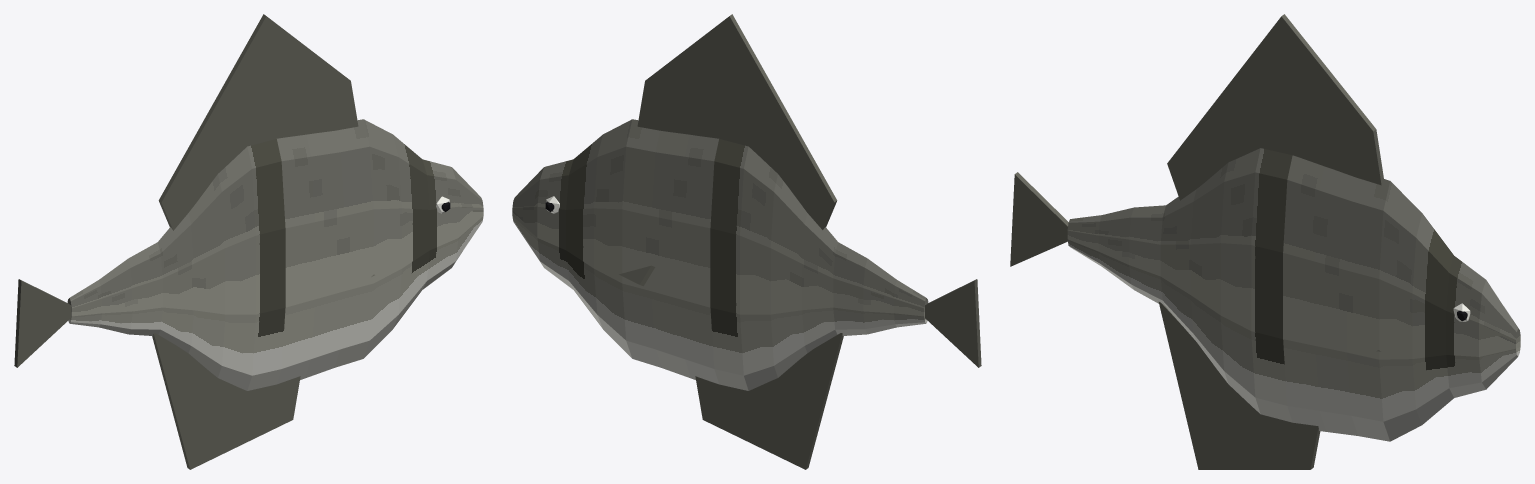
The model's file is batfish.glb.
3 views of the same model, side by side, from view 1: azimuth 30°, elevation 25°; view 2: azimuth 150°, elevation 25°; view 3: azimuth 330°, elevation 25° (orthographic). The views are drawn at different scales.
Parts seen in each view (by area): view 1: fish_batfish; view 2: fish_batfish; view 3: fish_batfish.
Boxes of the visible parts, <box> form: fish_batfish: <box>14,14,483,469</box>; fish_batfish: <box>512,14,981,469</box>; fish_batfish: <box>1010,14,1520,469</box>.
Size of the model in its own units: 1.13 by 1.01 by 0.1177.
4 materials, 1 textured.
